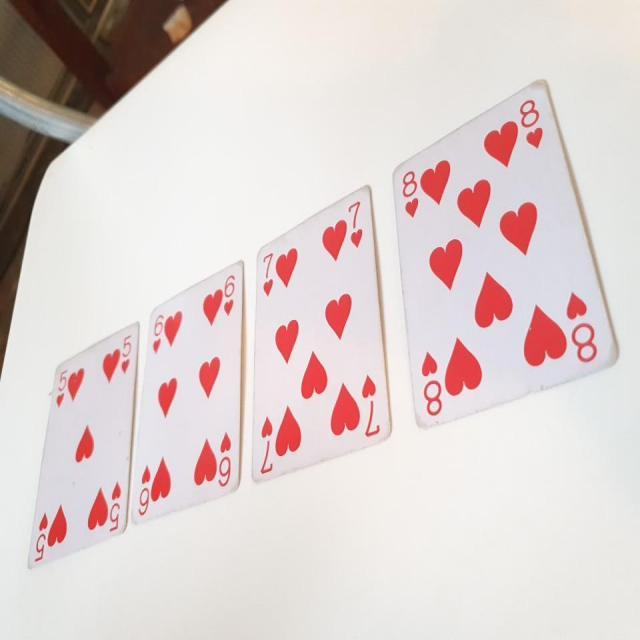5 of hearts: (32, 325, 142, 570)
6 of hearts: (132, 250, 246, 532)
7 of hearts: (248, 180, 398, 497)
8 of hearts: (394, 64, 622, 433)
